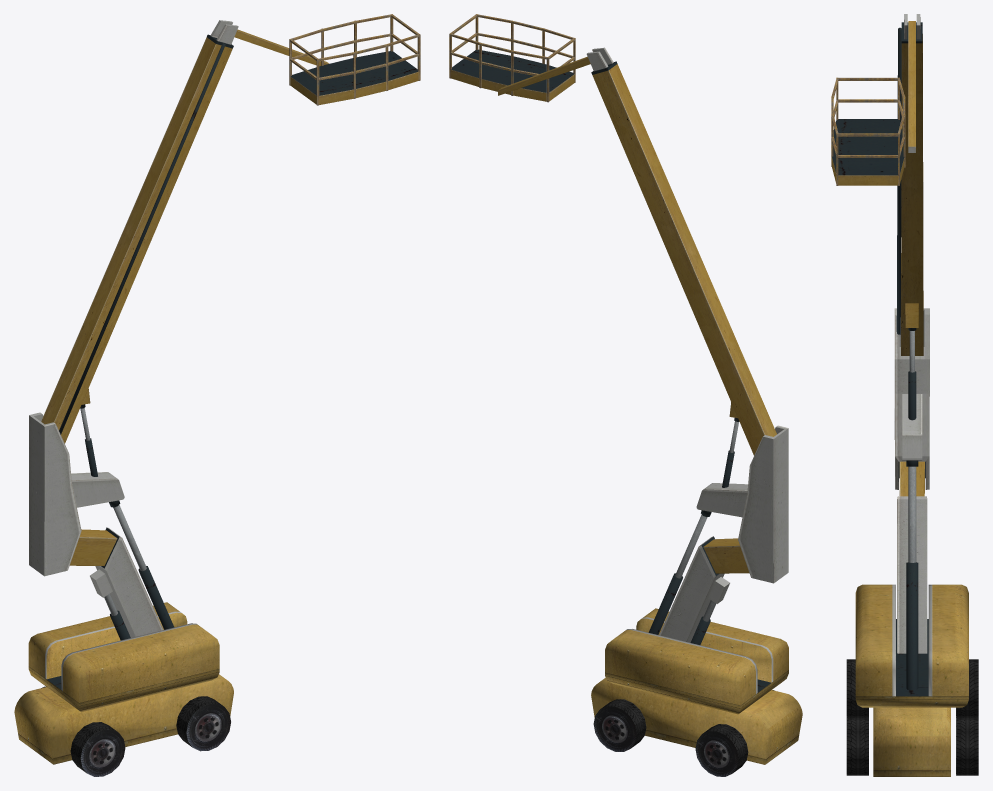
Rendered from Crane-02.fbx.
3 views of the same model, side by side, from view 1: azimuth 30°, elevation 25°; view 2: azimuth 150°, elevation 25°; view 3: azimuth 270°, elevation 25° (orthographic). The views are drawn at different scales.
Parts seen in each view (by area): view 1: Cube; view 2: Cube; view 3: Cube.
Boxes of the visible parts, bbox=[...] form: Cube: bbox=[14, 14, 420, 776]; Cube: bbox=[449, 14, 802, 776]; Cube: bbox=[831, 14, 978, 776].
Bounding box in the file's own units: 1091 × 2043 × 349.
